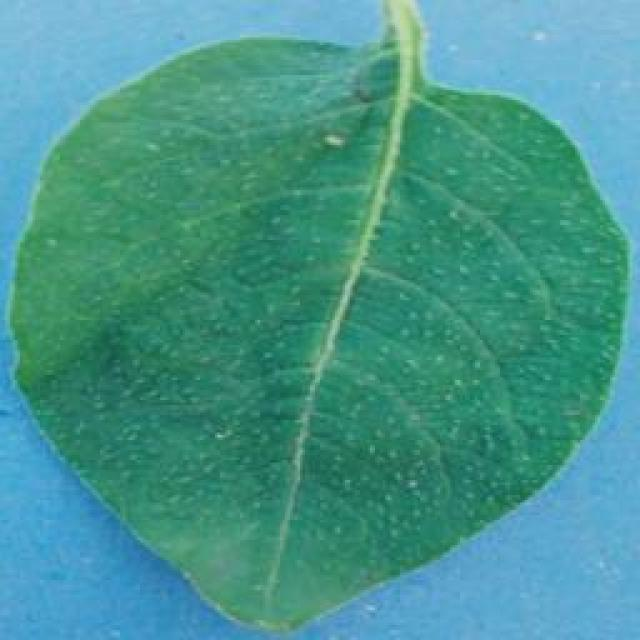Potato_Healthy: (8, 9, 625, 634)
